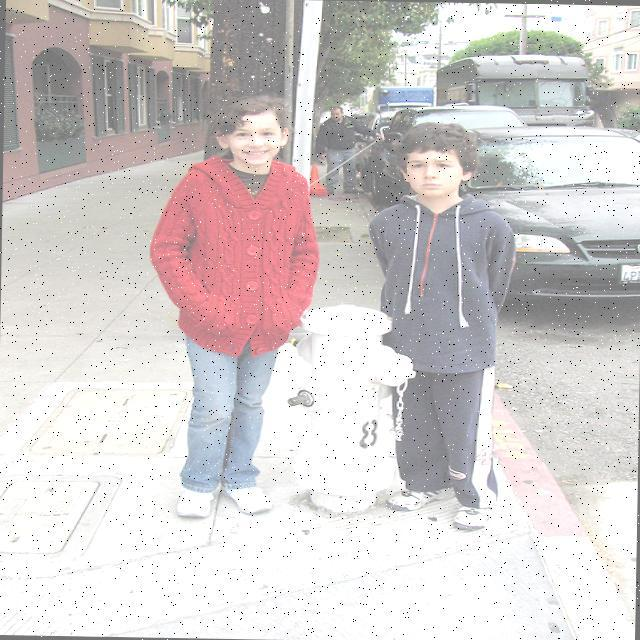fire_hydrant: (282, 301, 415, 514)
